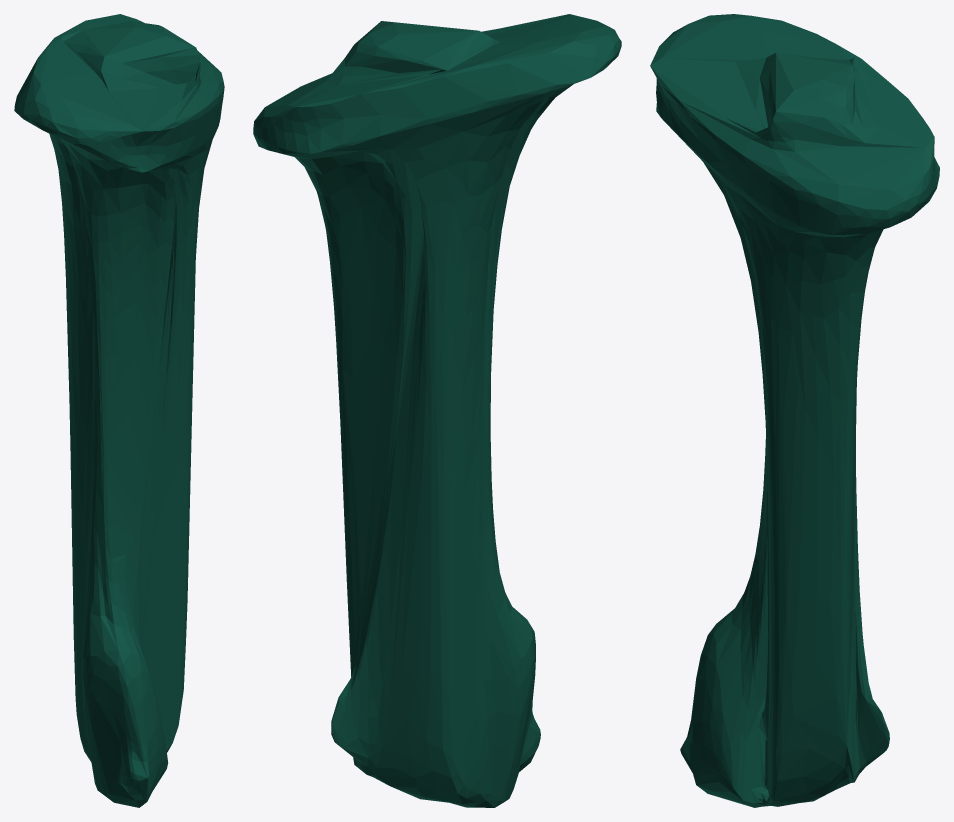
The picture shows the model from 3 angles, left to right: view 1: azimuth 30°, elevation 25°; view 2: azimuth 150°, elevation 25°; view 3: azimuth 270°, elevation 25°; orthographic projection. The views are drawn at different scales.
Parts seen in each view (by area): view 1: 128_Cube.530; view 2: 128_Cube.530; view 3: 128_Cube.530.
Part boxes in pixels (bbox=[...]): 128_Cube.530: bbox=[14, 14, 224, 807]; 128_Cube.530: bbox=[253, 14, 621, 807]; 128_Cube.530: bbox=[650, 14, 939, 807].
Size of the model in its own units: 4.46 by 12.29 by 4.33.
